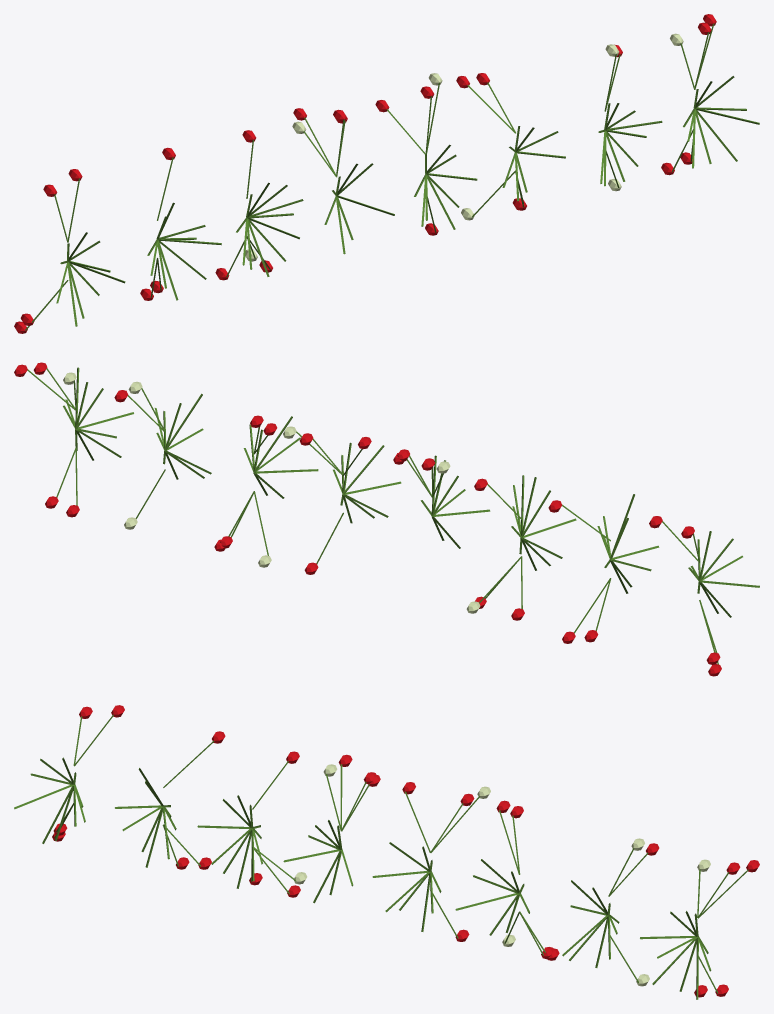
Rendered from r0c3_rest.obj.
The picture shows the model from 3 angles, top to bottom: view 1: azimuth 30°, elevation 25°; view 2: azimuth 150°, elevation 25°; view 3: azimuth 330°, elevation 25°; orthographic projection.
Visible parts, largest first — view 1: r0c3_rest; view 2: r0c3_rest; view 3: r0c3_rest.
Boxes of the visible parts, x1,y1,x2,y2 form: r0c3_rest: [14, 14, 759, 333]; r0c3_rest: [14, 362, 759, 676]; r0c3_rest: [14, 705, 759, 999].
Size of the model in its own units: 1.97 by 0.4019 by 0.2579.
